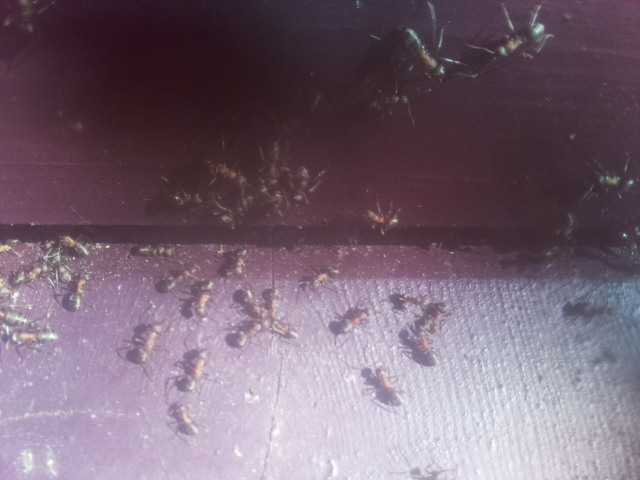ant: (394, 19, 451, 83), (490, 10, 552, 67), (540, 207, 584, 262), (398, 320, 444, 370), (123, 317, 169, 366), (587, 163, 640, 199), (177, 343, 211, 396), (357, 203, 407, 238), (372, 362, 405, 409), (150, 266, 204, 294), (165, 397, 199, 438), (229, 284, 267, 320), (288, 160, 314, 212), (11, 322, 61, 349), (55, 228, 93, 262), (383, 288, 432, 312), (340, 306, 371, 337), (68, 273, 90, 310), (194, 277, 212, 320), (230, 242, 249, 281), (12, 264, 43, 285)
